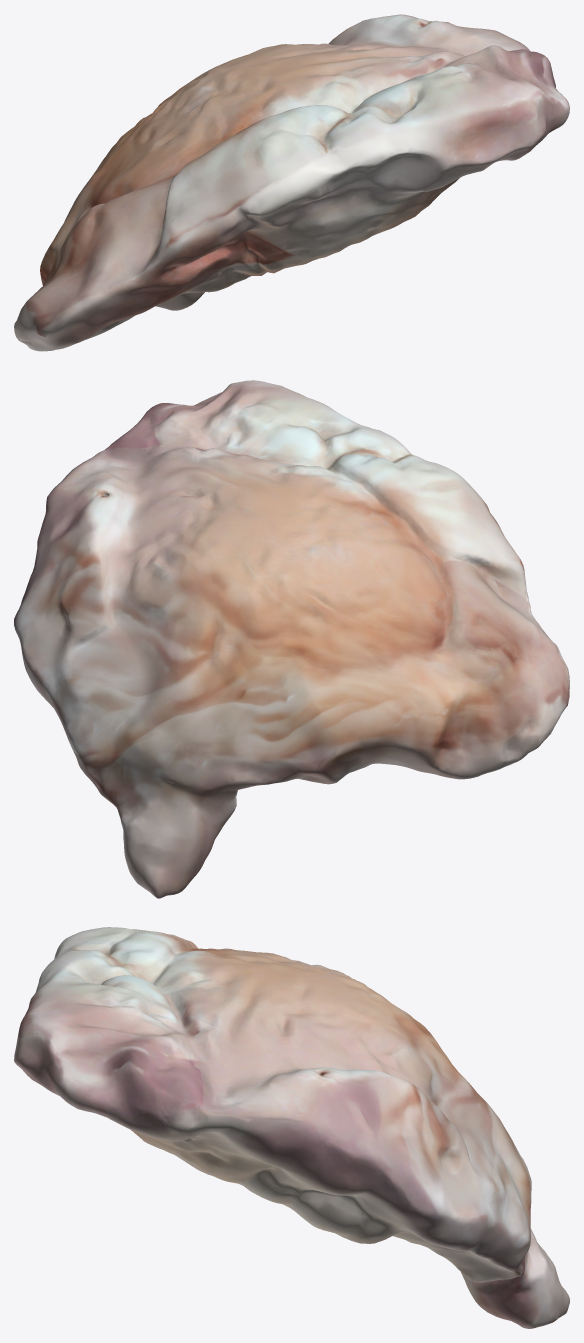
3 views of the same model, one above another, from view 1: azimuth 30°, elevation 25°; view 2: azimuth 150°, elevation 25°; view 3: azimuth 270°, elevation 25° (orthographic). The views are drawn at different scales.
Bounding box in the file's own units: 2 × 1.31 × 1.75.
1 material, 1 textured.
